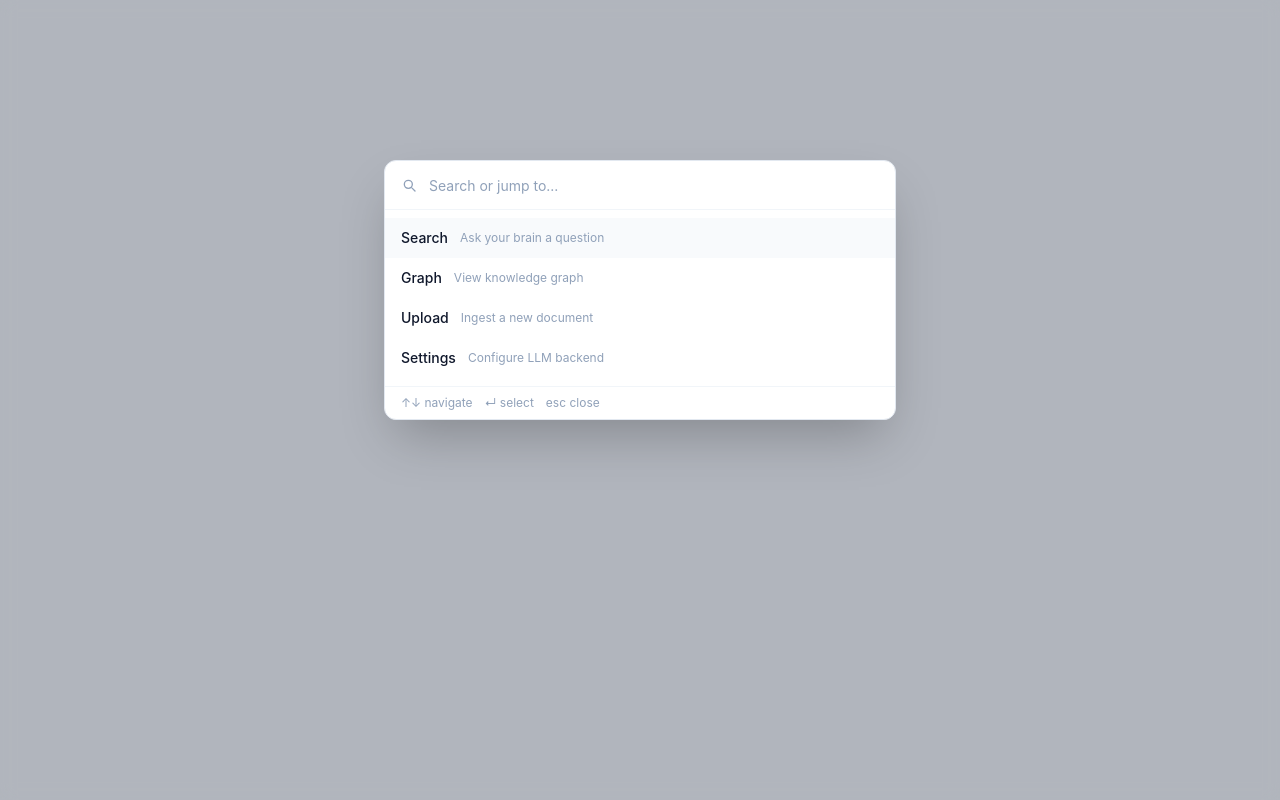
Test case: CommandPalette › filters nav items by query
Type "graph" into the field. click: (654, 185)
box: [429, 161, 879, 209]
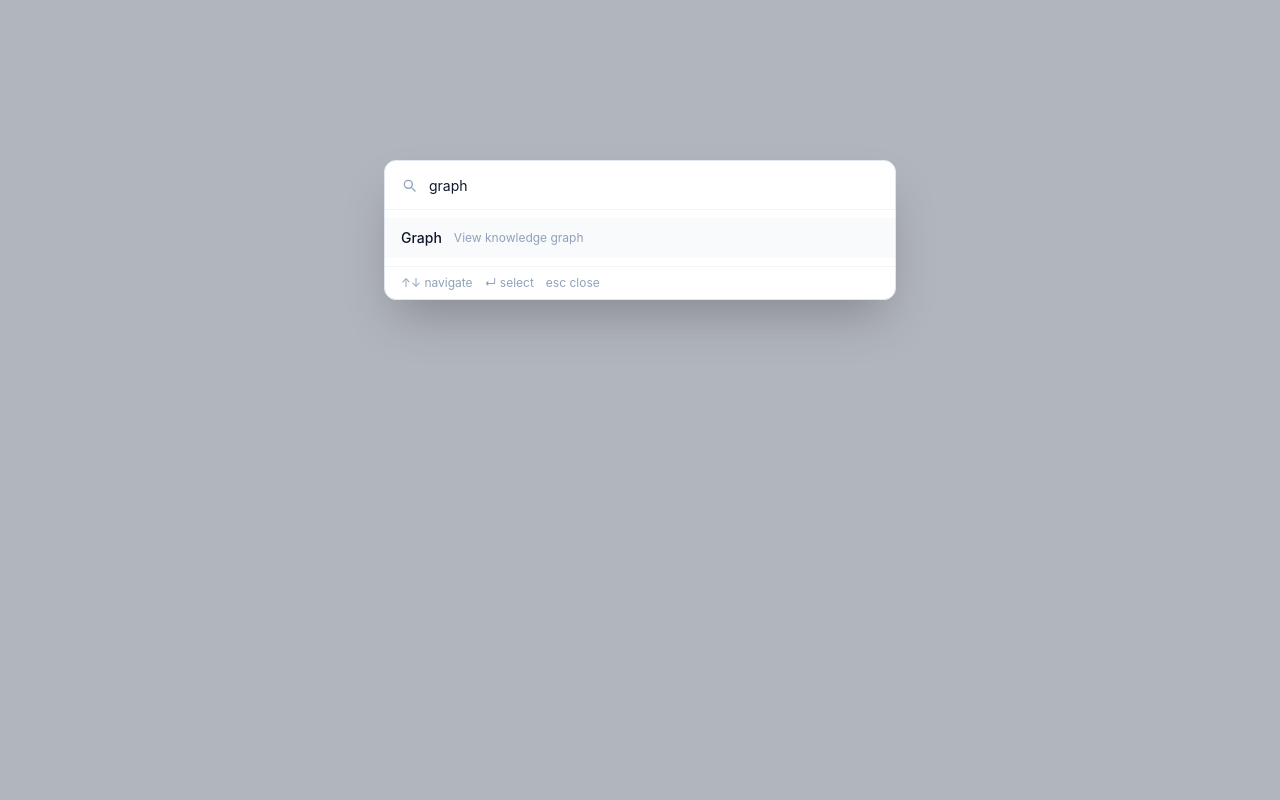
Check: the text "Graph" is shown, box [401, 228, 442, 248]
Check: the button "Upload" is gone
